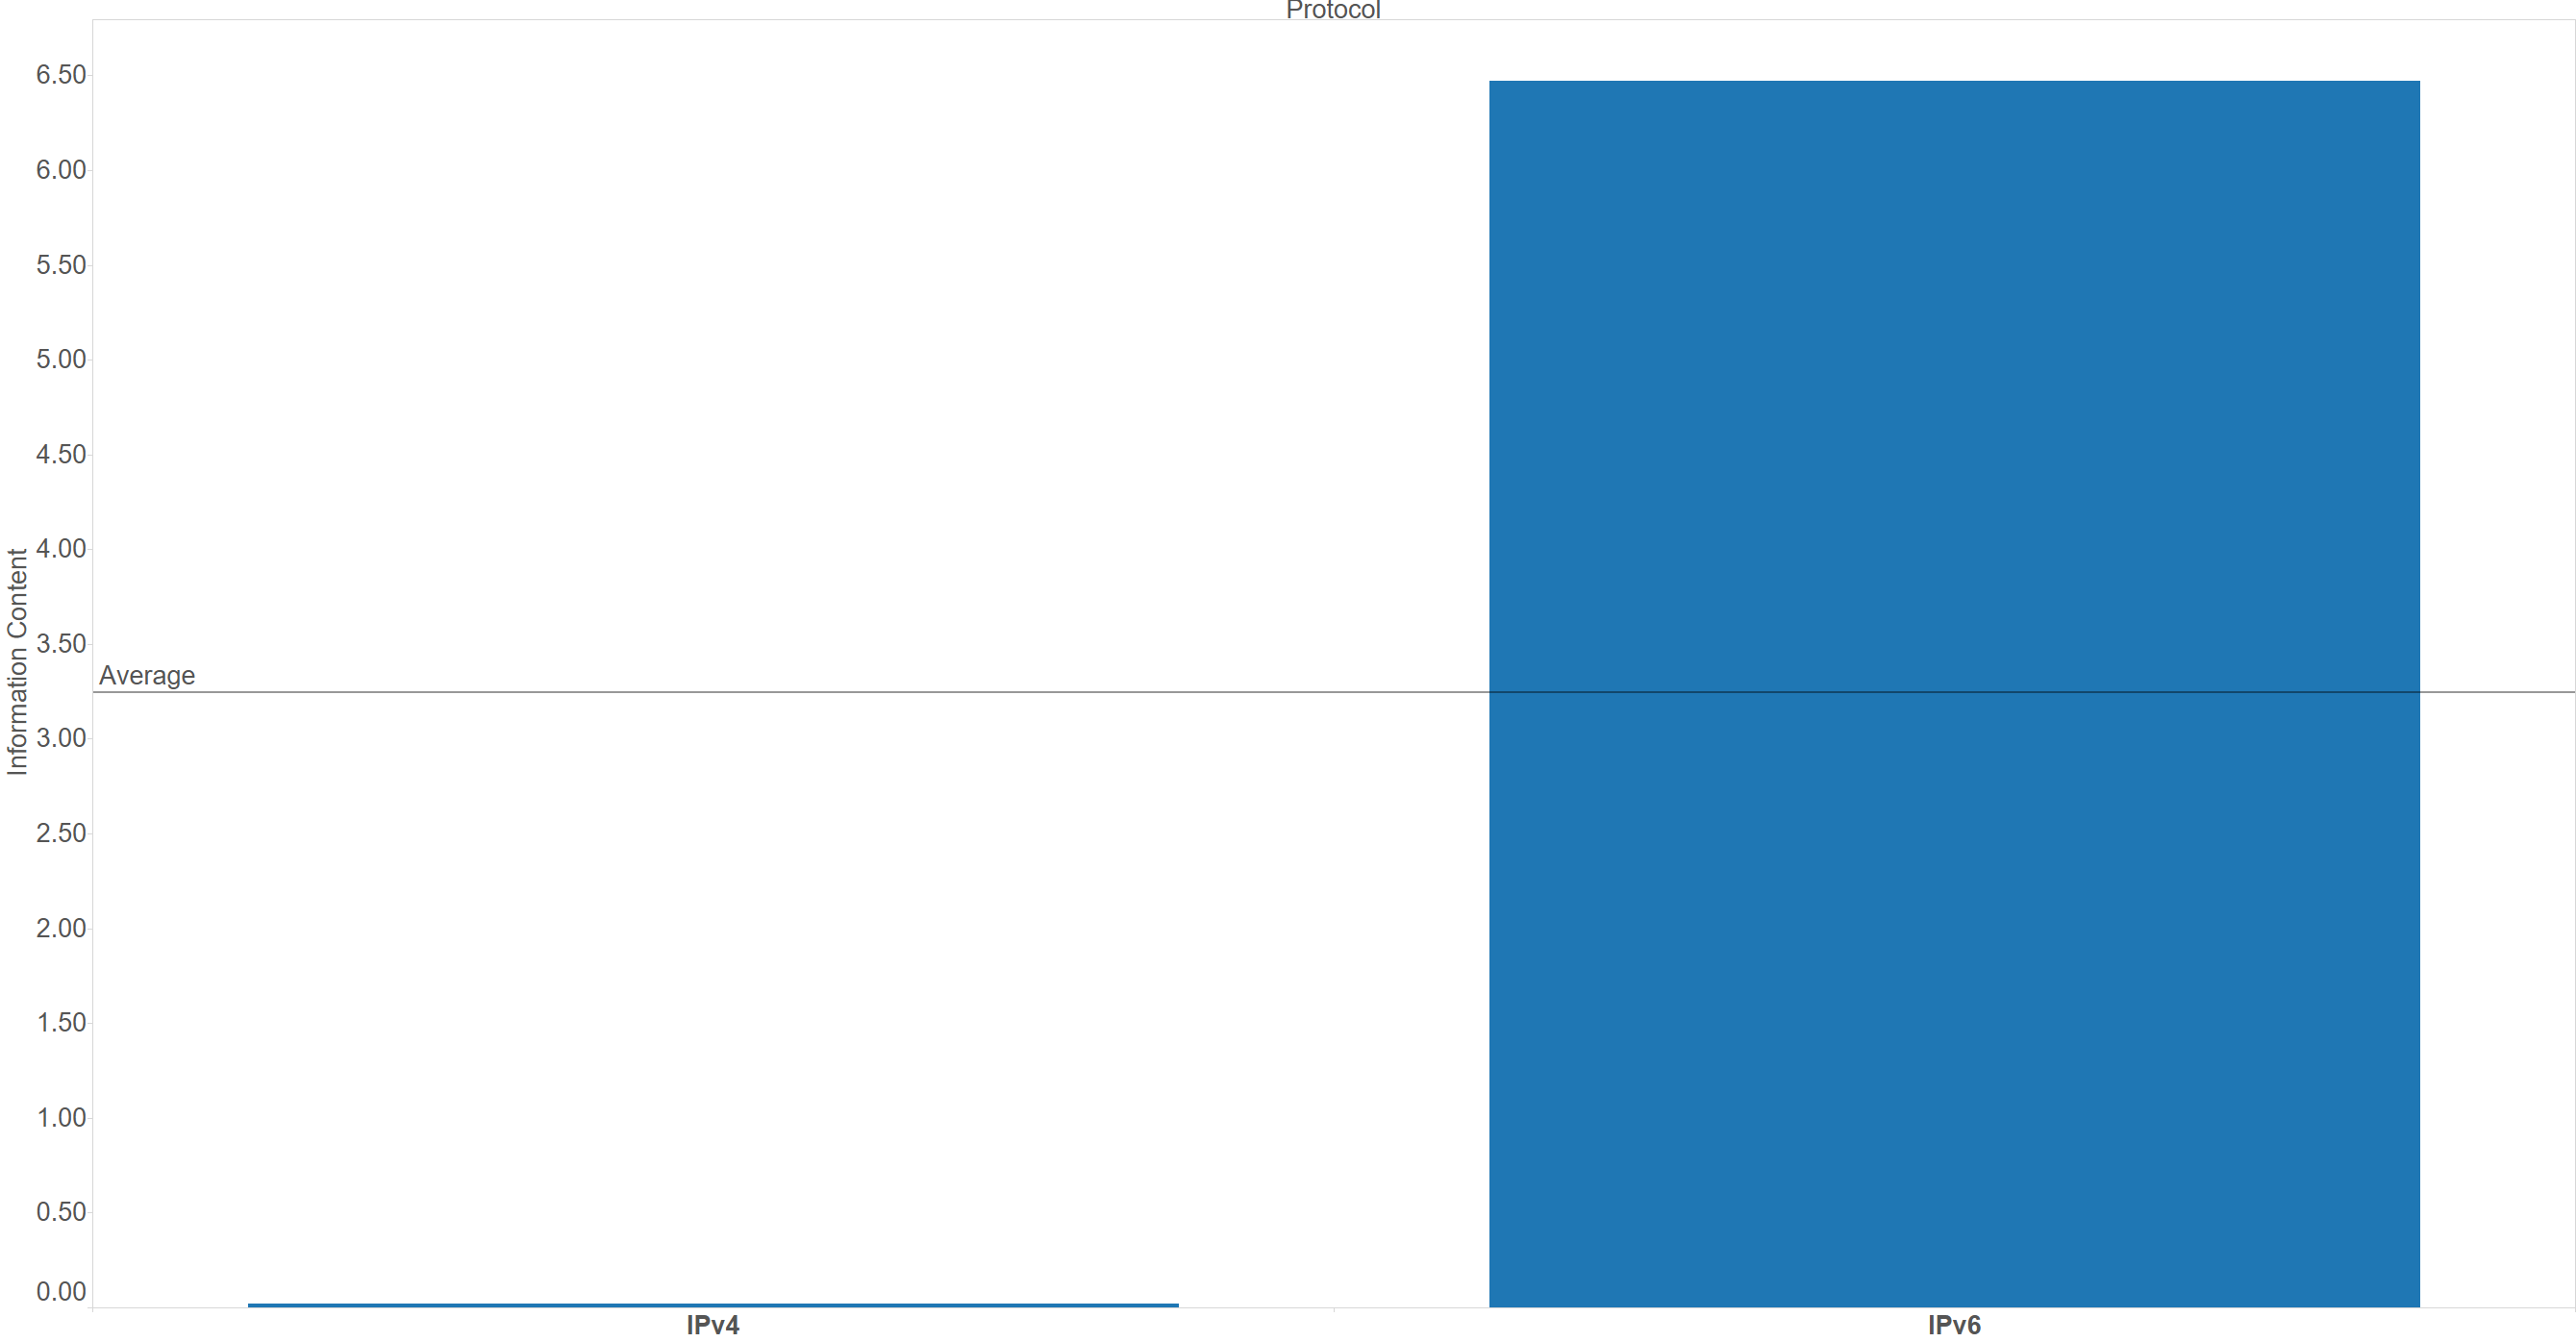

The page's visual inventory and layout, read from the dashboard file:
{"tool":"tableau","page":{"name":"Protocol PDF Dashboard","canvas":[1000,1000],"units":"permille","ordinal":2},"visuals":[{"type":"worksheet","title":"Protocol PDF","mark":"Bar","rows":["Calculation_558446359775064070"],"cols":["protocol"],"box":[0,0,1000,1000]}]}

Visuals, with their boxes on the dashboard's canvas, which has no fixed pixel size, in thousandths of its width and height (x1, y1, x2, y2). These are canvas units, not pixel positions in the 2576x1342 screenshot, which may show the page scaled, cropped or inside an application window:
"Protocol PDF" worksheet (Bar marks): locate(0, 0, 1000, 1000)
